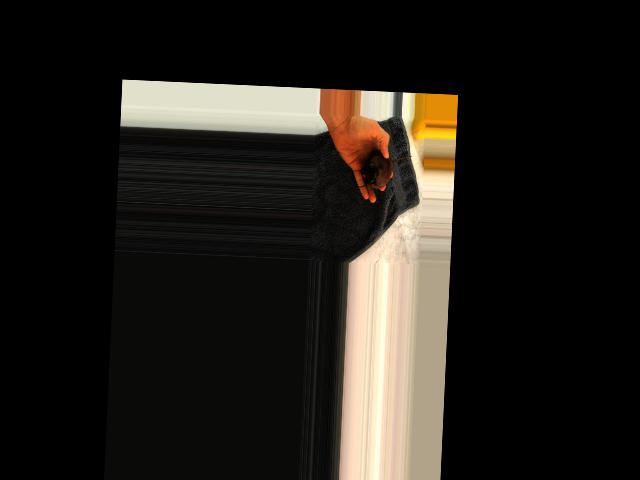beet: (360, 149, 411, 189)
